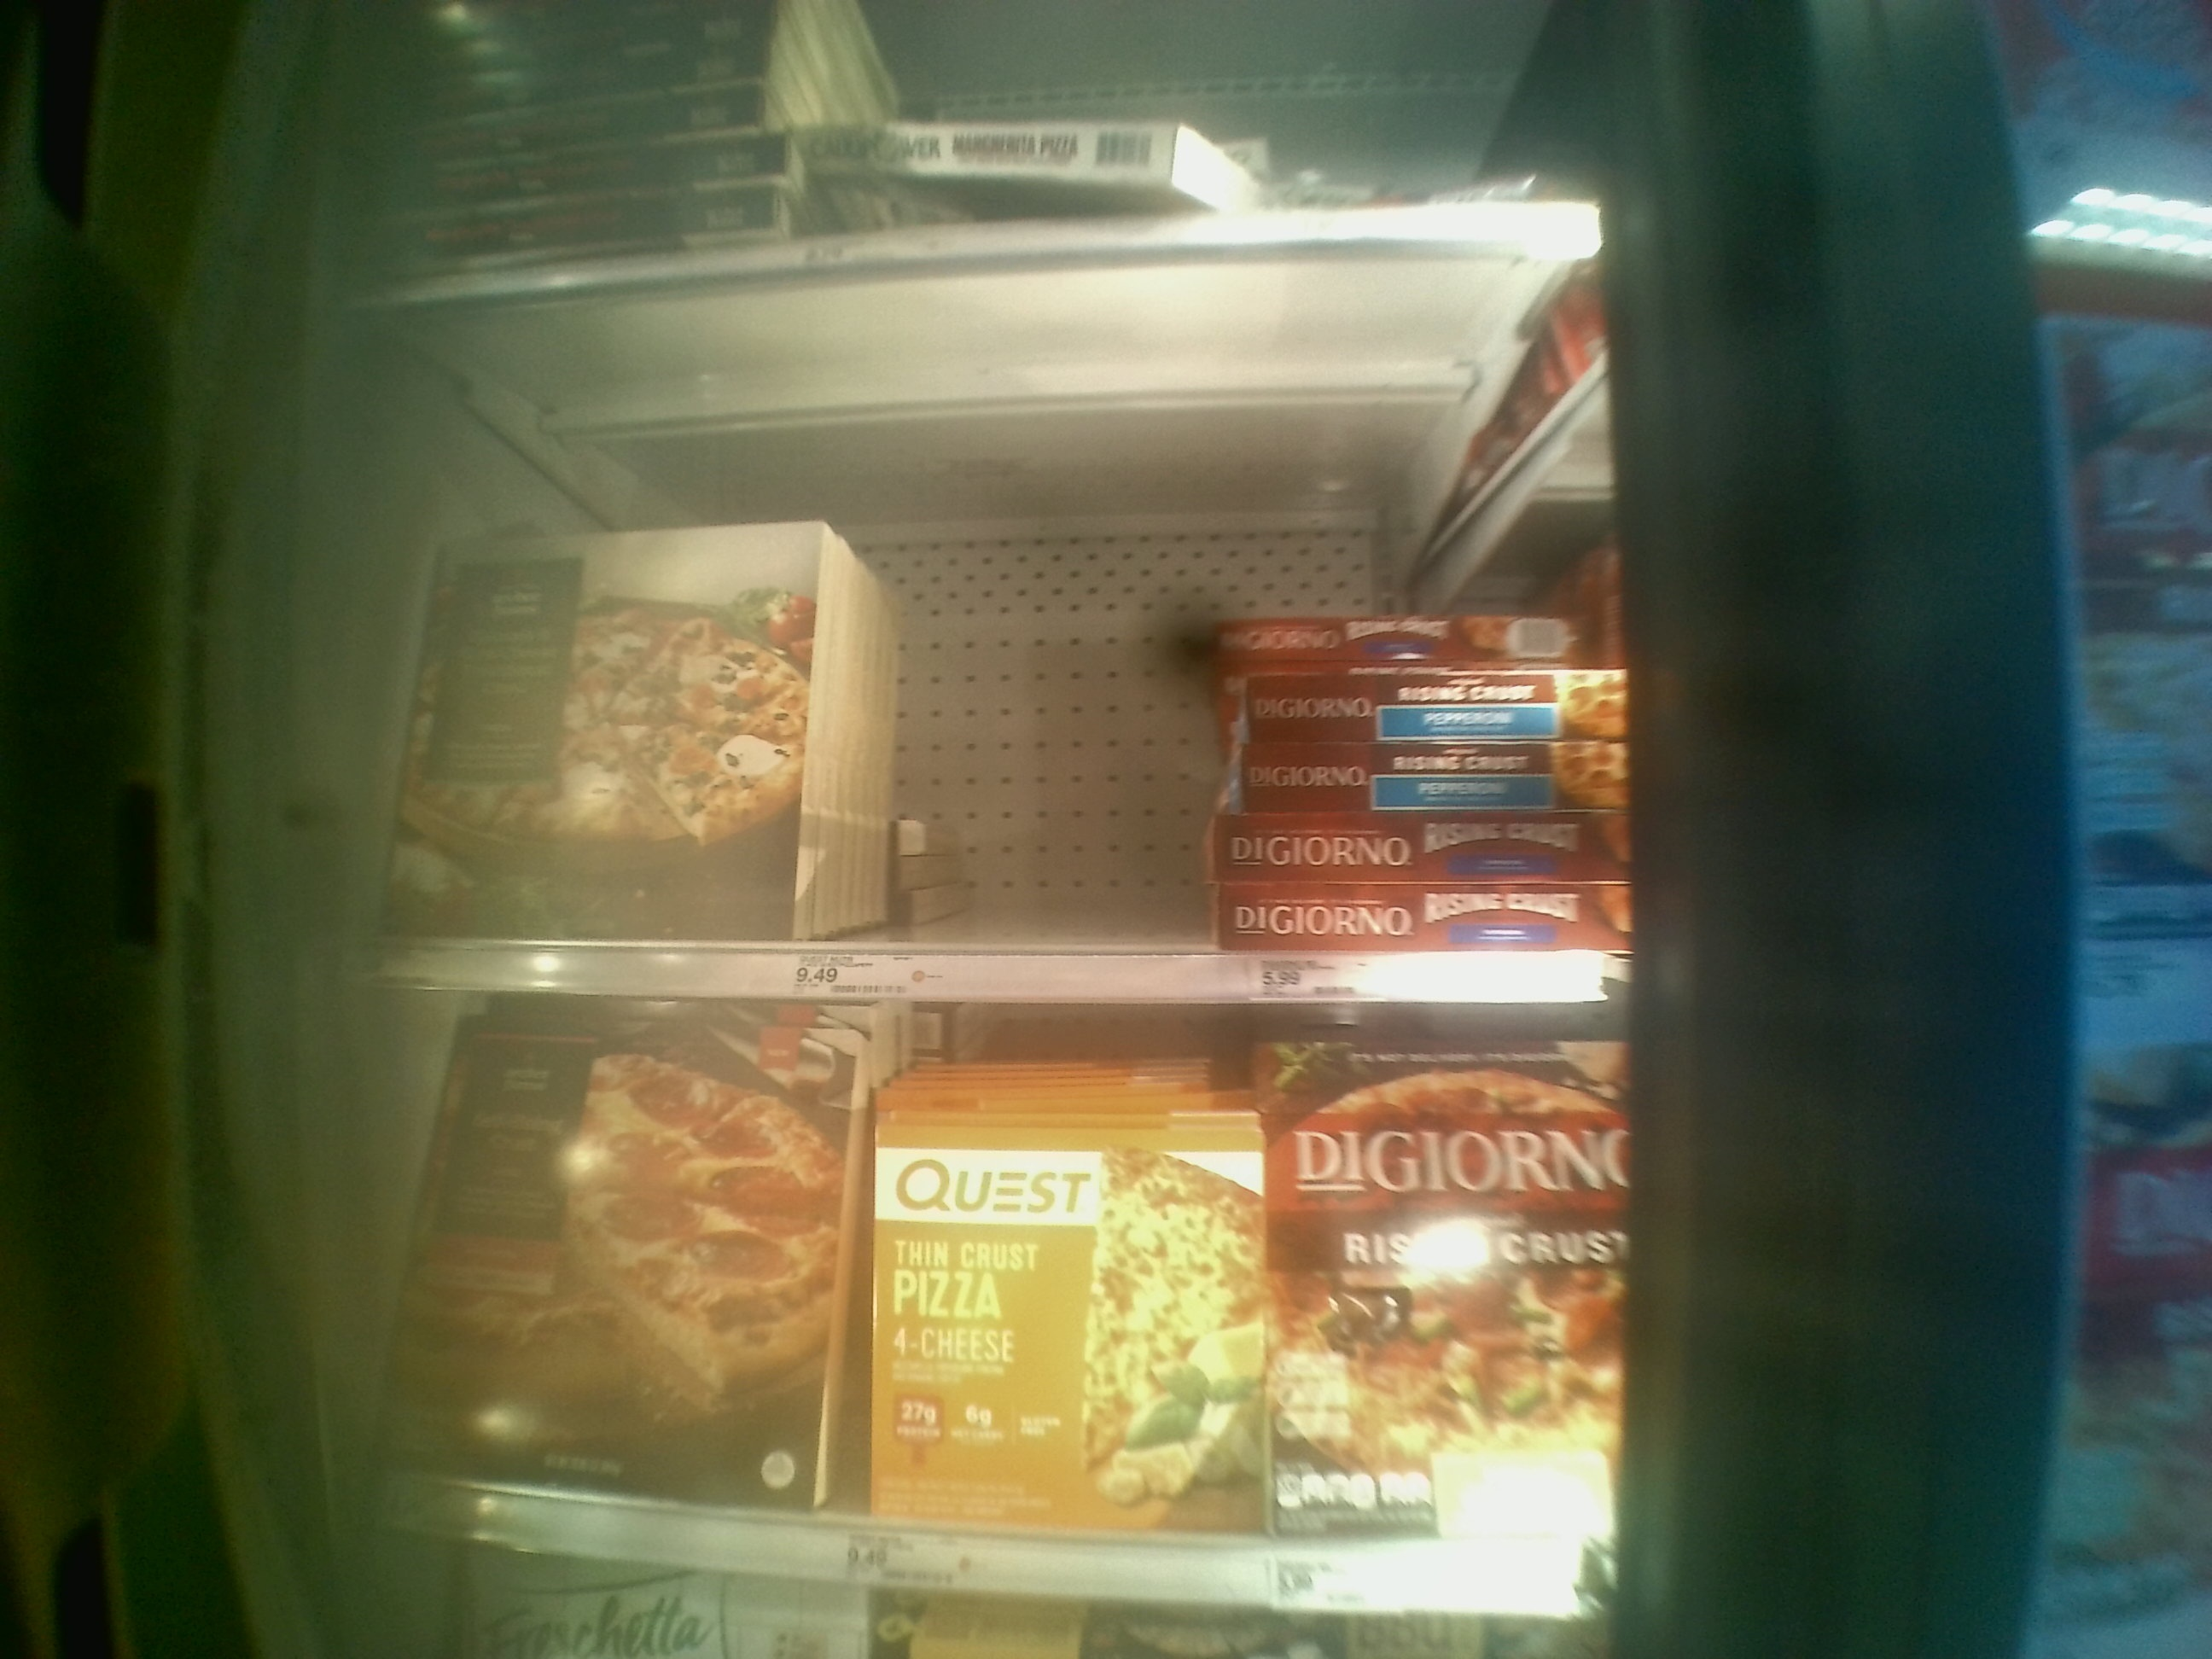shelf: (348, 972, 1646, 1605)
